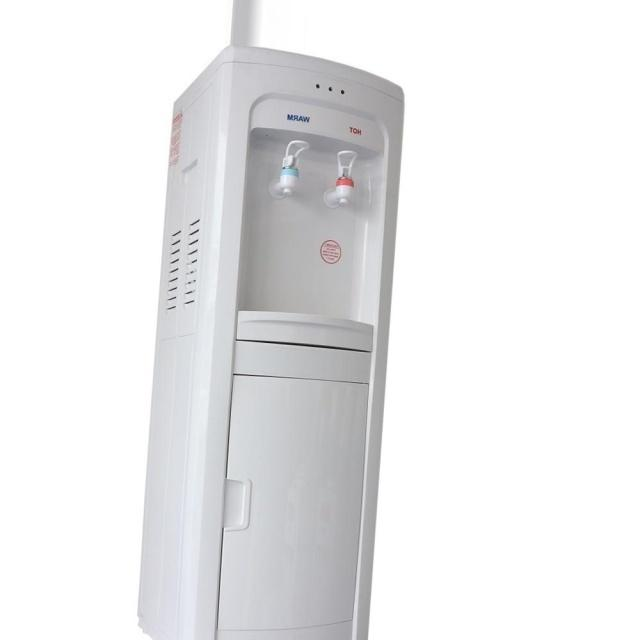Dispenser: (135, 43, 405, 639)
